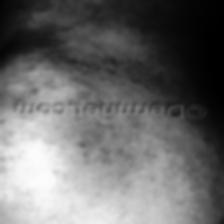Toxin: (66, 86, 102, 106), (0, 160, 16, 178)
